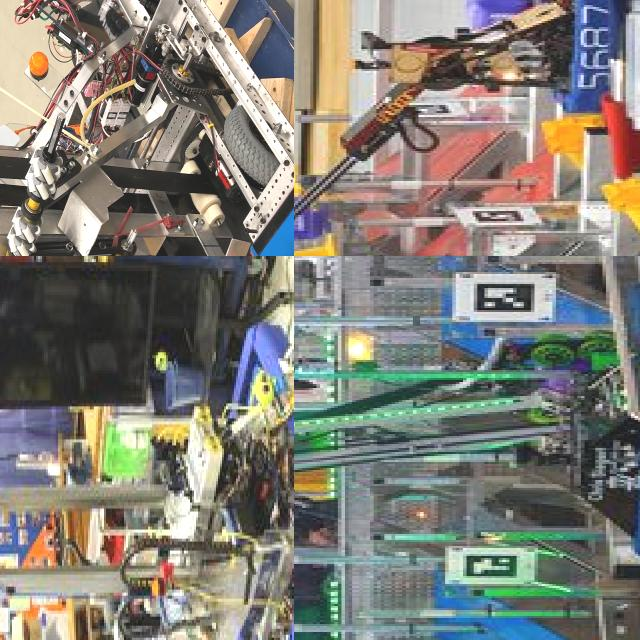FRC-Robots: (0, 256, 294, 640), (294, 265, 640, 548), (294, 0, 616, 256), (0, 0, 294, 256)
